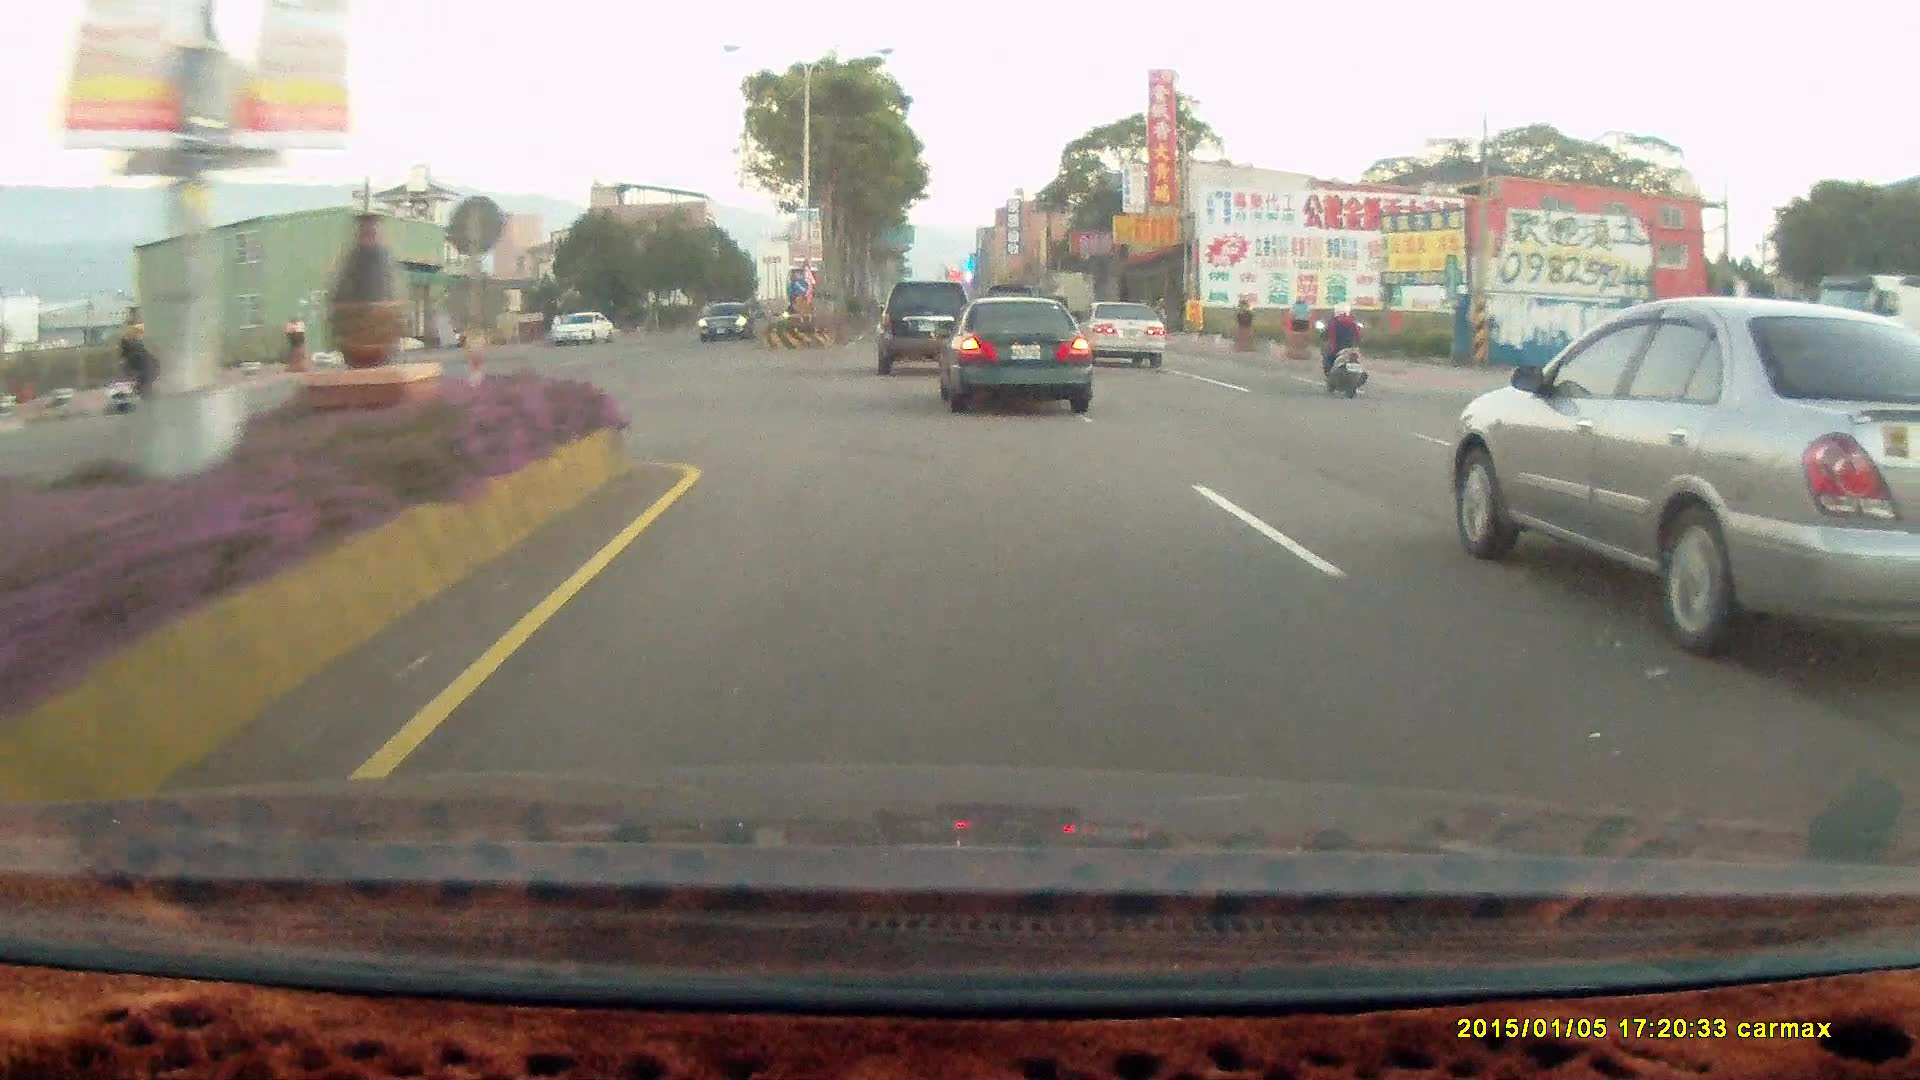pedestrian: (114, 331, 163, 408)
rider: (1308, 293, 1379, 405), (1311, 297, 1367, 395)
vehicle: (1443, 300, 1920, 667), (946, 297, 1101, 416), (928, 291, 1087, 408), (875, 279, 979, 375), (875, 279, 971, 374), (1076, 295, 1165, 365), (1078, 300, 1166, 366), (550, 308, 618, 347), (697, 301, 756, 345), (696, 300, 755, 342), (549, 306, 615, 341)
